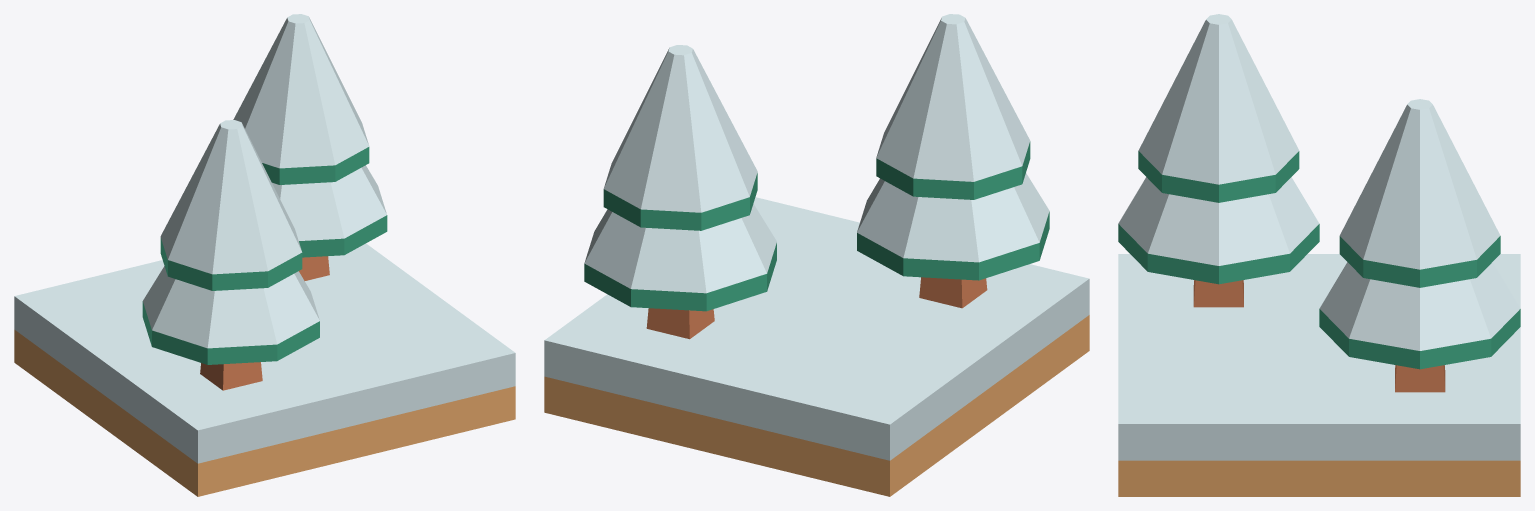
File: snow_tile_treeDouble.obj
3 renders of one model, left to right at view 1: azimuth 30°, elevation 25°; view 2: azimuth 150°, elevation 25°; view 3: azimuth 270°, elevation 25°, orthographic. The views are drawn at different scales.
Visible parts, largest first — view 1: snow_tile_treeDouble, tree; view 2: snow_tile_treeDouble, tree; view 3: snow_tile_treeDouble, tree.
Part boxes in pixels (x1,y1,x2,y2): snow_tile_treeDouble: [14, 243, 515, 496]; tree: [142, 14, 387, 390]; snow_tile_treeDouble: [544, 197, 1089, 496]; tree: [584, 14, 1049, 339]; snow_tile_treeDouble: [1118, 254, 1520, 496]; tree: [1118, 14, 1520, 392].
Bounding box in the file's own units: 1 × 0.96 × 1.
